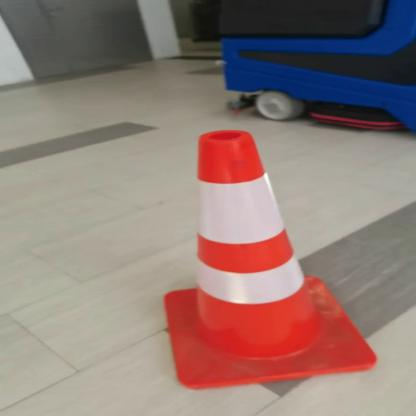cone: (156, 122, 387, 392)
